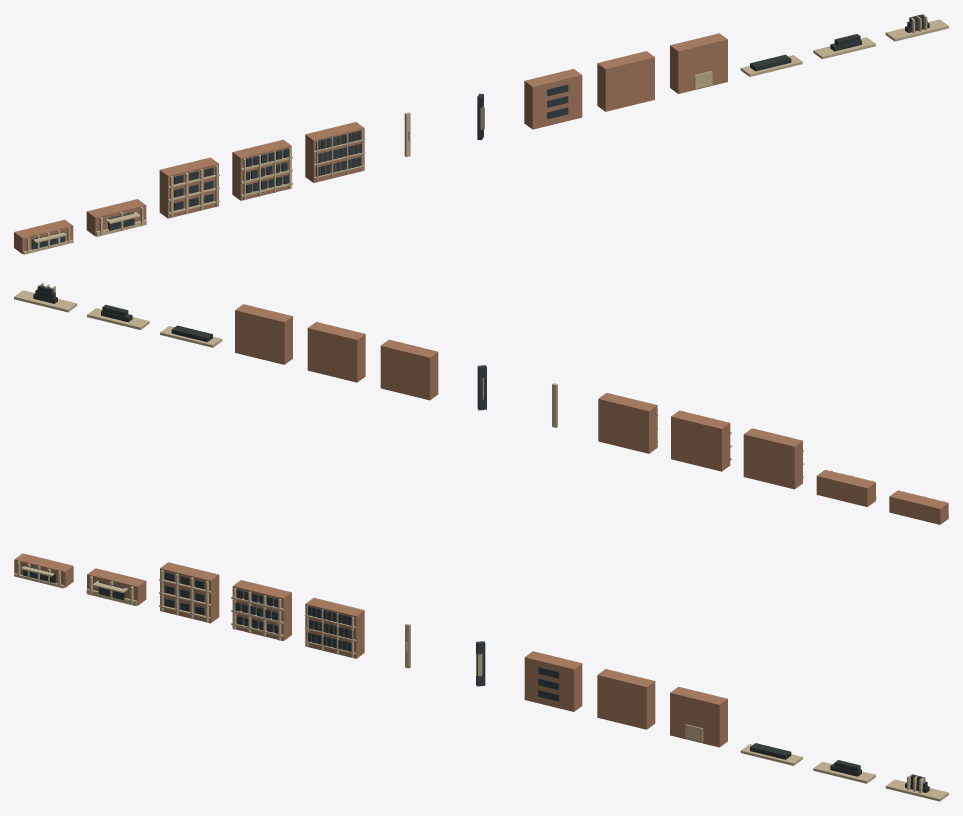
File: narrow-storefront-row.glb
3 renders of one model, top to bottom at view 1: azimuth 30°, elevation 25°; view 2: azimuth 150°, elevation 25°; view 3: azimuth 330°, elevation 25°, orthographic.
Visible parts, largest first — view 1: middle-wall (×3), party-wall, rear-wall, exposed-wall, base-shell (×2), cornice; view 2: middle-wall (×3), base-shell (×2), party-wall, exposed-wall, rear-wall, cornice; view 3: middle-wall (×3), party-wall, rear-wall, exposed-wall, base-shell (×2).
Part boxes in pixels (left/top/right/bottom): middle-wall (×3): left=159, top=122, right=364, bottom=218; party-wall: left=597, top=51, right=654, bottom=111; rear-wall: left=670, top=33, right=727, bottom=93; exposed-wall: left=524, top=69, right=582, bottom=129; base-shell (×2): left=14, top=199, right=146, bottom=253; cornice: left=885, top=19, right=948, bottom=41; middle-wall (×3): left=598, top=392, right=802, bottom=489; base-shell (×2): left=816, top=470, right=948, bottom=524; party-wall: left=307, top=322, right=365, bottom=382; exposed-wall: left=380, top=339, right=438, bottom=400; rear-wall: left=235, top=304, right=292, bottom=364; cornice: left=14, top=290, right=77, bottom=312; middle-wall (×3): left=160, top=562, right=364, bottom=658; party-wall: left=597, top=669, right=655, bottom=729; rear-wall: left=670, top=686, right=727, bottom=747; exposed-wall: left=524, top=651, right=582, bottom=711; base-shell (×2): left=14, top=553, right=146, bottom=605.
Bounding box in the file's own units: 63.61 × 2.8 × 1.6.
